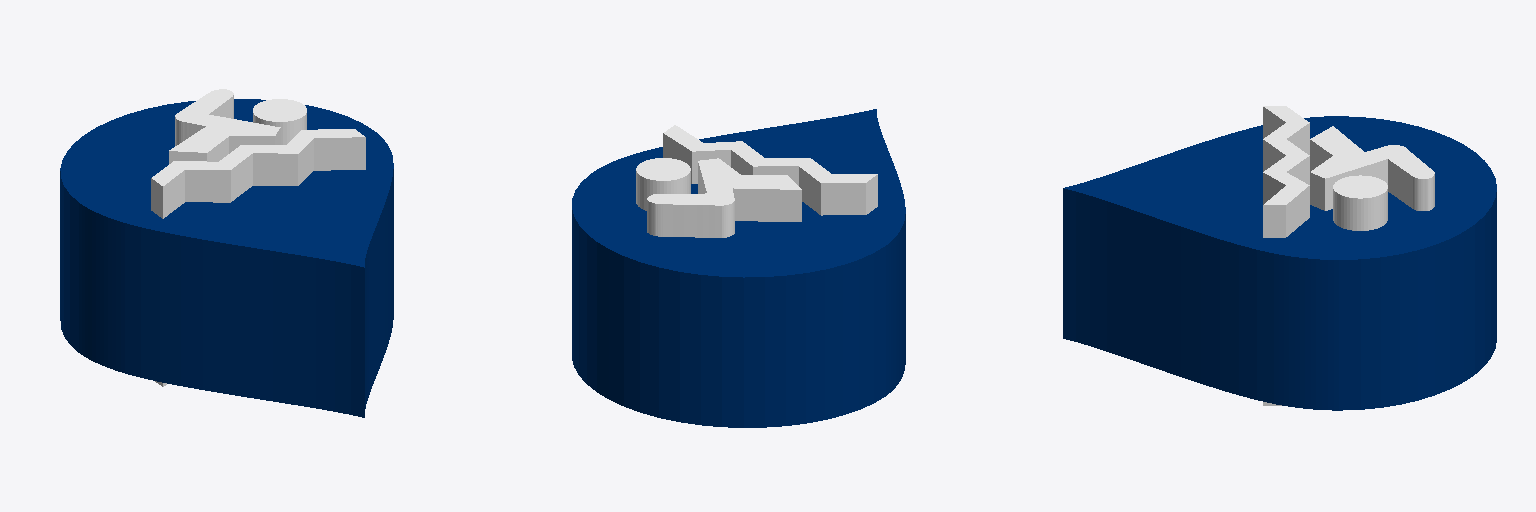
File: swim.obj
3 renders of one model, left to right at view 1: azimuth 30°, elevation 25°; view 2: azimuth 150°, elevation 25°; view 3: azimuth 270°, elevation 25°, orthographic.
Visible parts, largest first — view 1: Curve, Curve.005_path16388; view 2: Curve, Curve.005_path16388; view 3: Curve, Curve.005_path16388.
Part boxes in pixels (x1,y1,x2,y2): Curve: (60, 99, 393, 417); Curve.005_path16388: (151, 89, 365, 386); Curve: (572, 109, 905, 427); Curve.005_path16388: (636, 125, 877, 237); Curve: (1063, 116, 1496, 410); Curve.005_path16388: (1263, 106, 1434, 405).
Bounding box in the file's own units: 0.0062 × 0.004 × 0.0078.